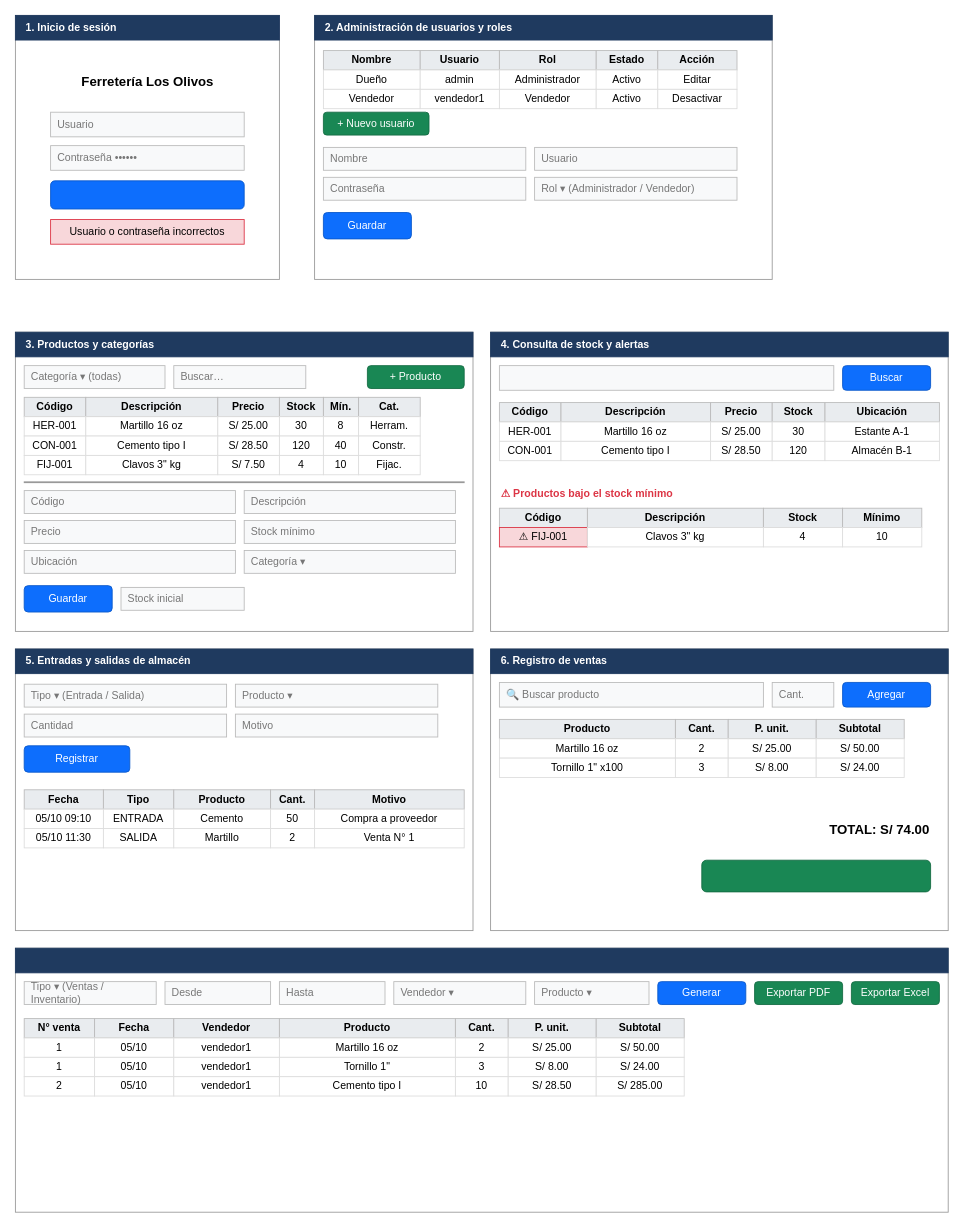
Image size: 964x1228. Some labels were removed from this diagram. Here are the shapes that lost their labels. From the top down, the centre of each, then its label:
(147,194): Ingresar
(666,377): 🔍 Buscar por código o descripción
(816,875): Registrar venta
(481,960): 7. Reportes con exportación
